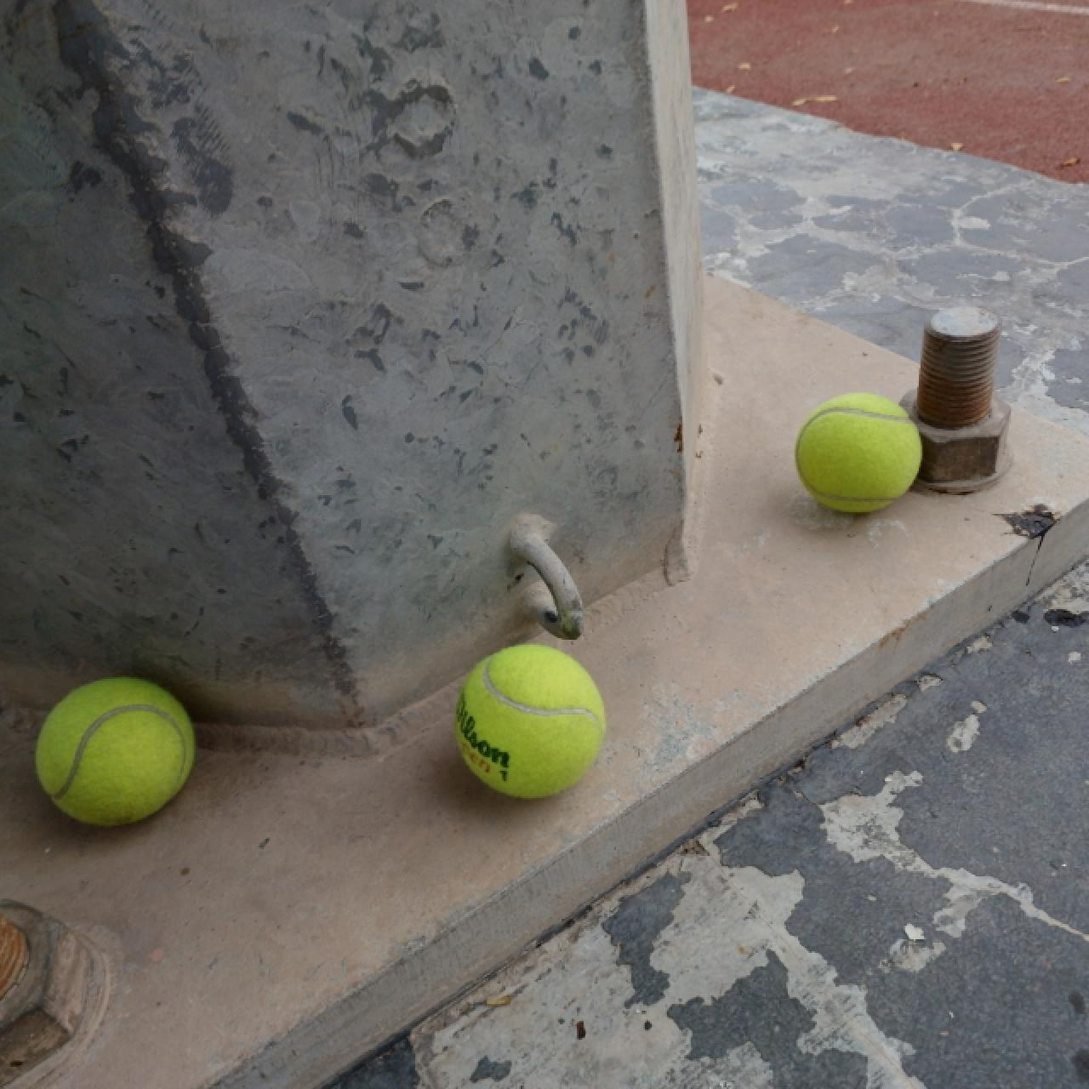tennis-ball: (453, 642, 606, 801), (39, 676, 195, 831), (795, 391, 925, 517)
